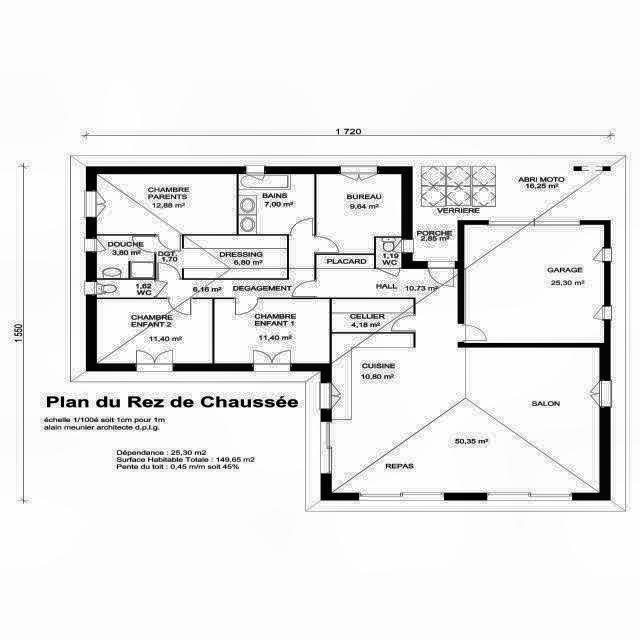room: (316, 255, 600, 493), (464, 225, 604, 343), (156, 235, 314, 298), (97, 174, 237, 234), (214, 299, 330, 363), (97, 299, 212, 363), (316, 174, 401, 254), (239, 174, 314, 234), (332, 299, 414, 332), (97, 236, 154, 278), (97, 280, 154, 298), (376, 238, 401, 269)
